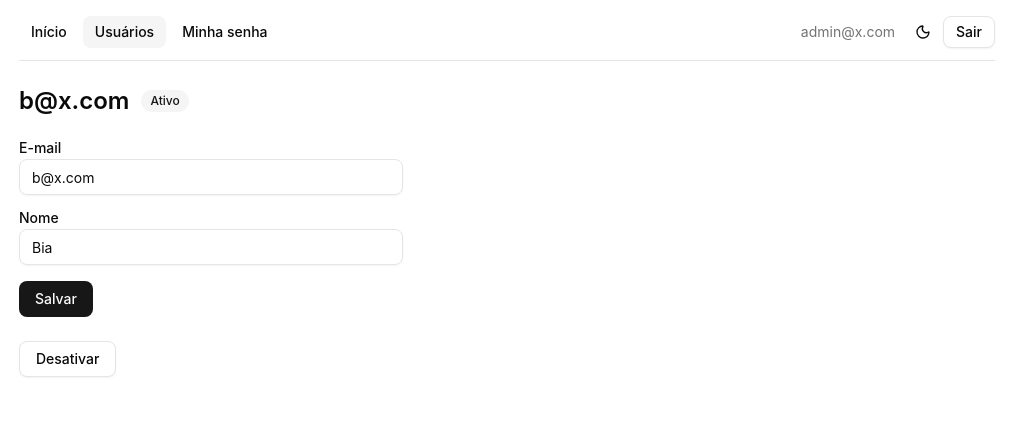
Test: UserDetail on /users/$id › patches only changed fields
Step 1. Replace the text in the field labelled "Nome" with "Bia Souza" → [211, 247], box [19,229,403,265]
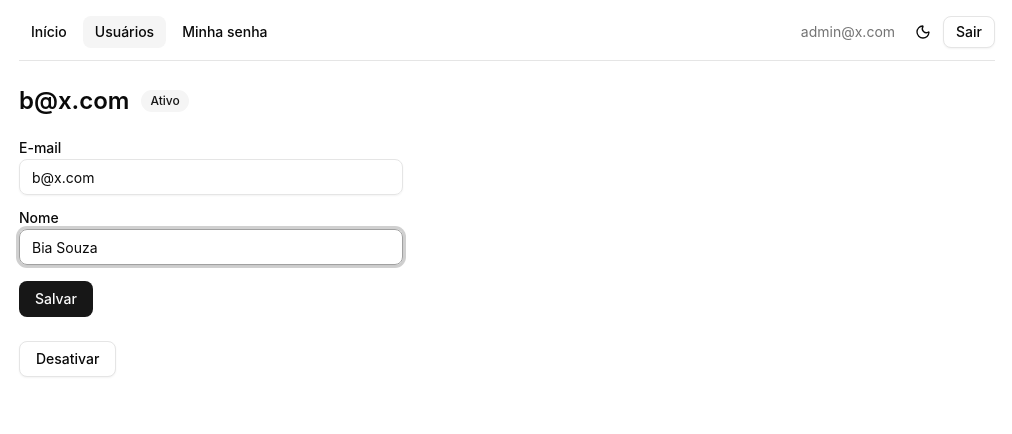
Step 2. Click the button "Salvar" → [56, 299], box [19,281,93,317]
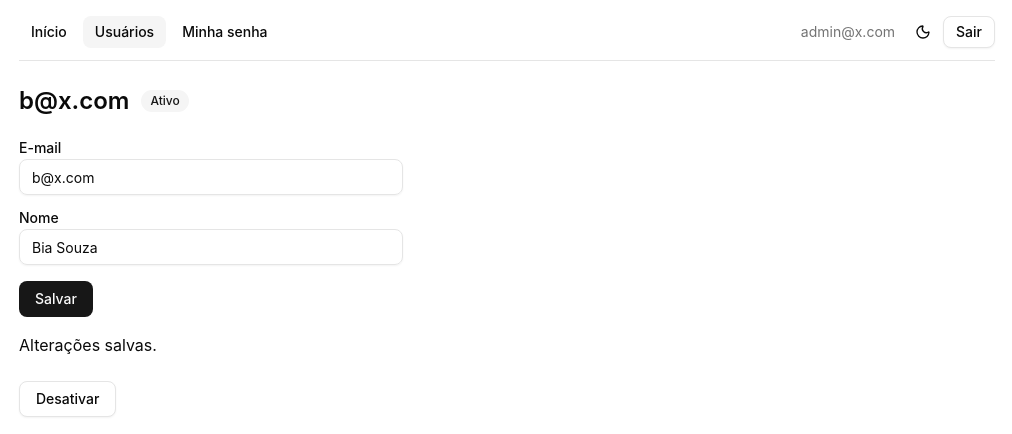
Now the text "Alterações salvas." is shown, box [19,335,157,355]
